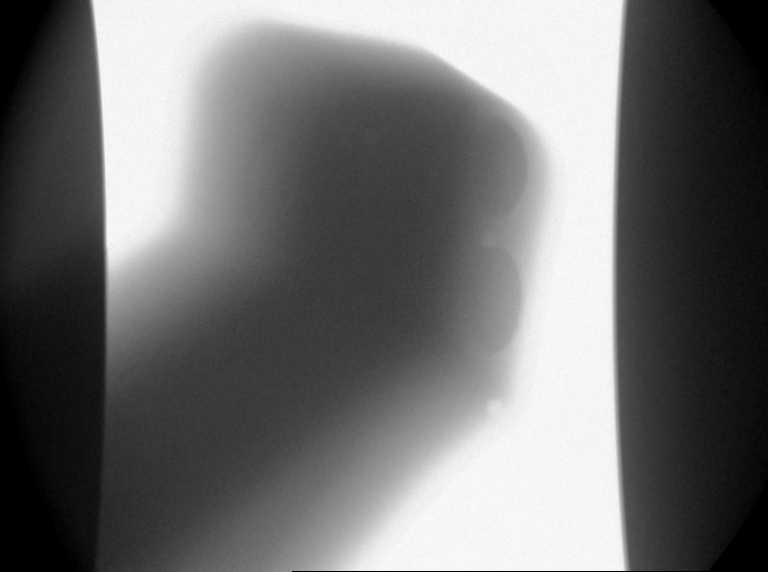defect: (482, 393, 509, 423)
